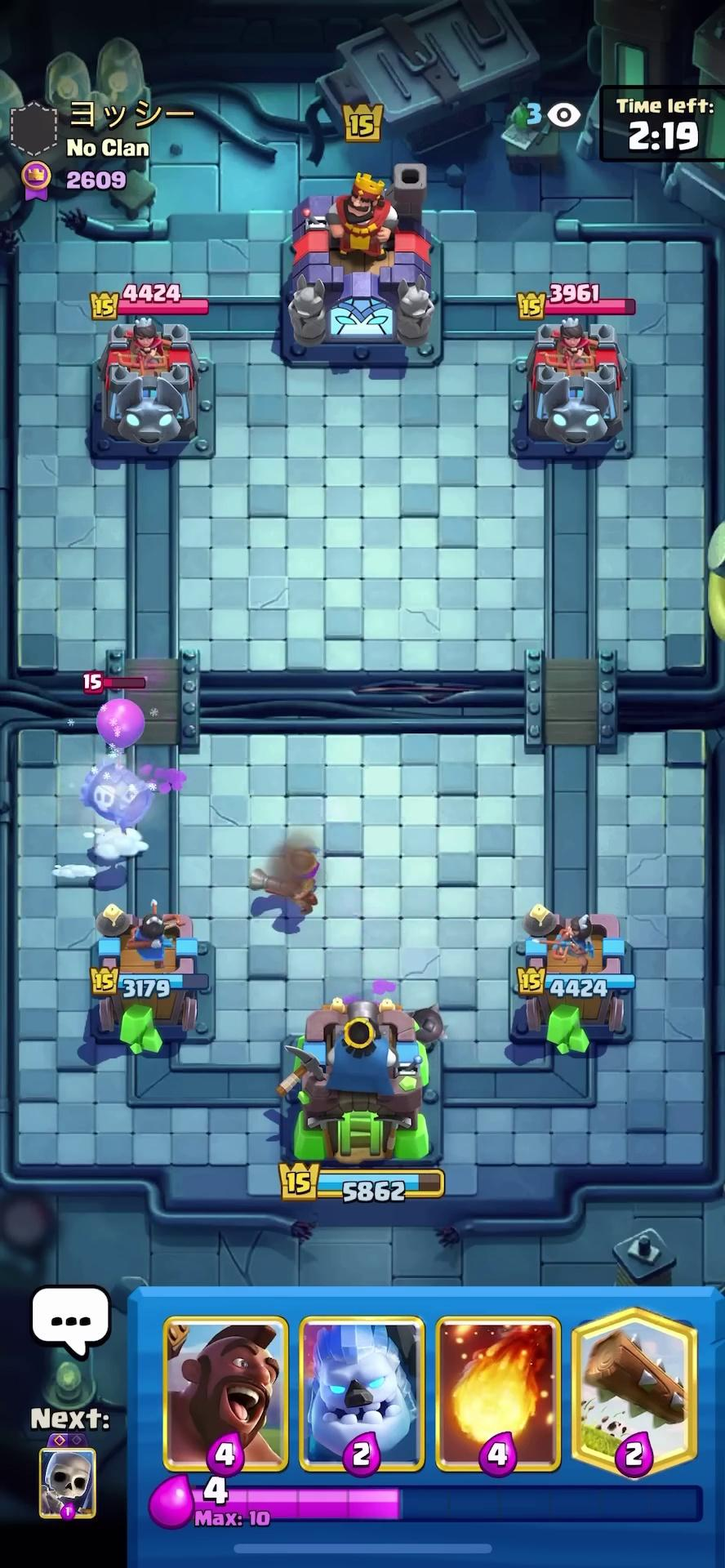musketeer: (249, 827, 343, 915)
